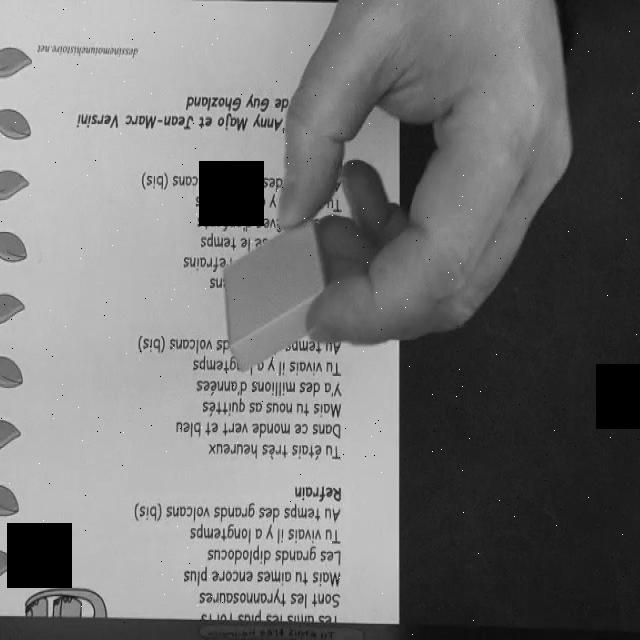square: (223, 220, 331, 372)
